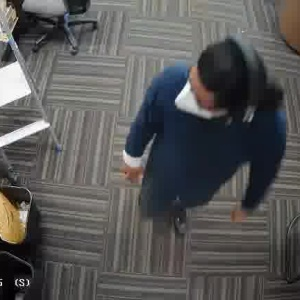person: (143, 48, 277, 230)
